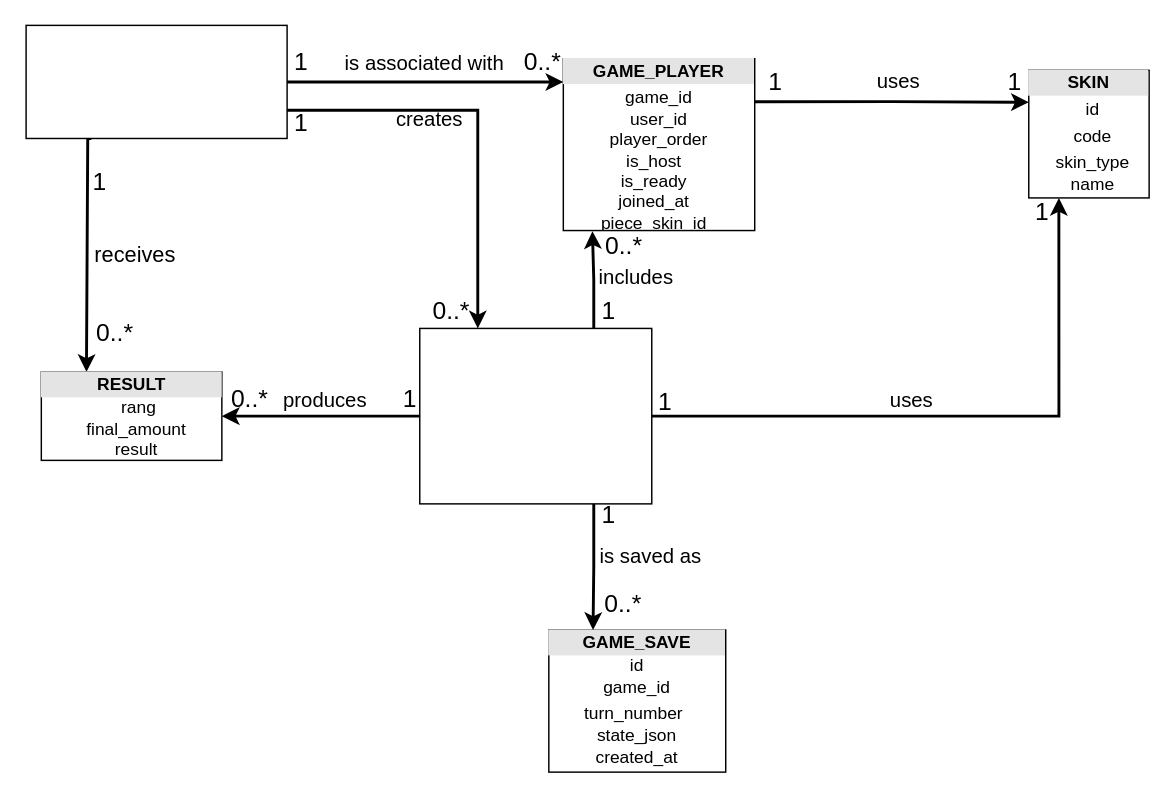
Some shapes in this 1175 by 798 pixel diagram are drawn without their labels. Here are the shapes that lost their labels. From the top down, the box of each, then its label:
(25, 24, 287, 138): USER id user_name password_hash
(418, 327, 652, 504): GAME id code status created_at ended_at created_by_user_id board_skin_id
